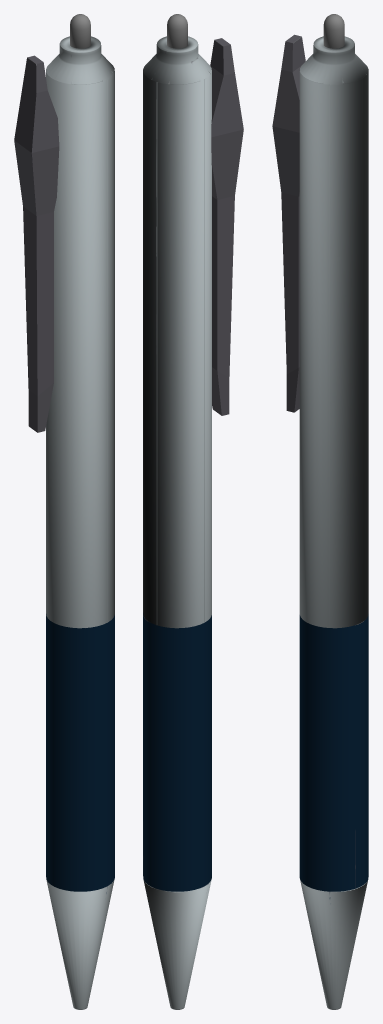
File: pen2.fbx
The picture shows the model from 3 angles, left to right: view 1: azimuth 30°, elevation 25°; view 2: azimuth 210°, elevation 25°; view 3: azimuth 330°, elevation 25°; orthographic projection.
Visible parts, largest first — view 1: 平面; view 2: 平面; view 3: 平面.
Part boxes in pixels (x1,y1,x2,y2): 平面: (14,14,114,1009); 平面: (143,14,243,1009); 平面: (272,14,368,1009).
Bounding box in the file's own units: 1.14 × 12.7 × 0.8.
